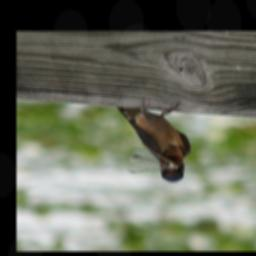Swallow: (116, 95, 191, 182)
